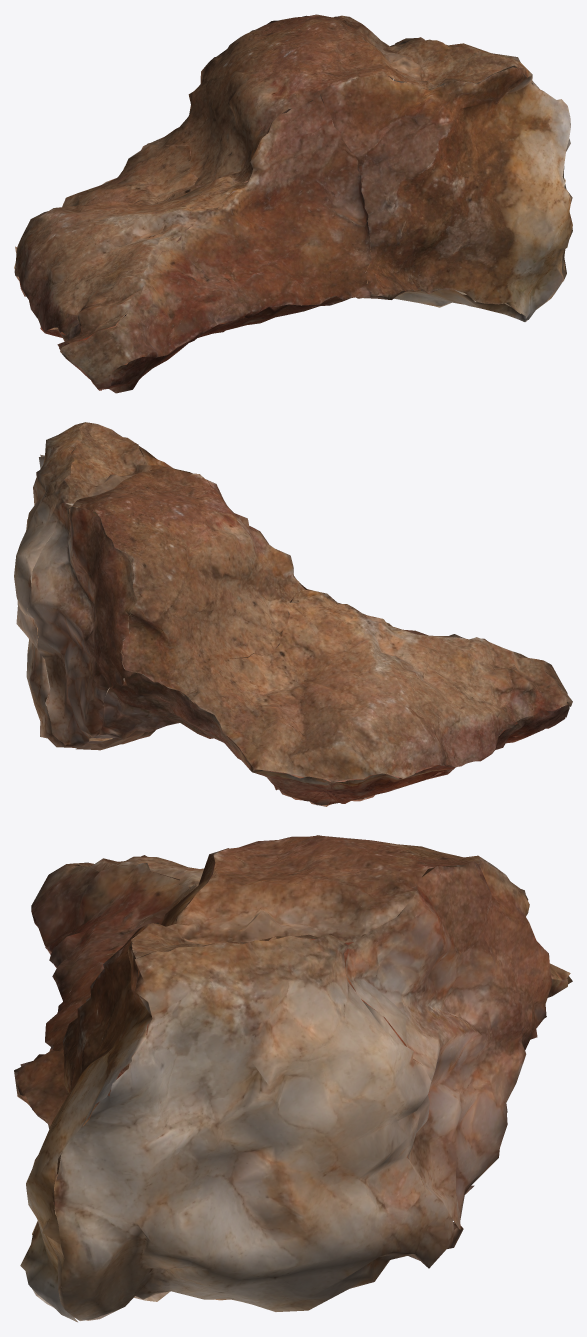
The model's file is stone_01.glb.
3 views of the same model, one above another, from view 1: azimuth 30°, elevation 25°; view 2: azimuth 150°, elevation 25°; view 3: azimuth 270°, elevation 25° (orthographic). The views are drawn at different scales.
Visible parts, largest first — view 1: stone_01; view 2: stone_01; view 3: stone_01.
Boxes of the visible parts, box(x1,y1,x2,y2) form: stone_01: box(14, 14, 572, 393); stone_01: box(14, 422, 572, 806); stone_01: box(14, 835, 572, 1322).
Bounding box in the file's own units: 0.147 × 0.0713 × 0.0897.
Materials: 1 (1 with a texture image).
